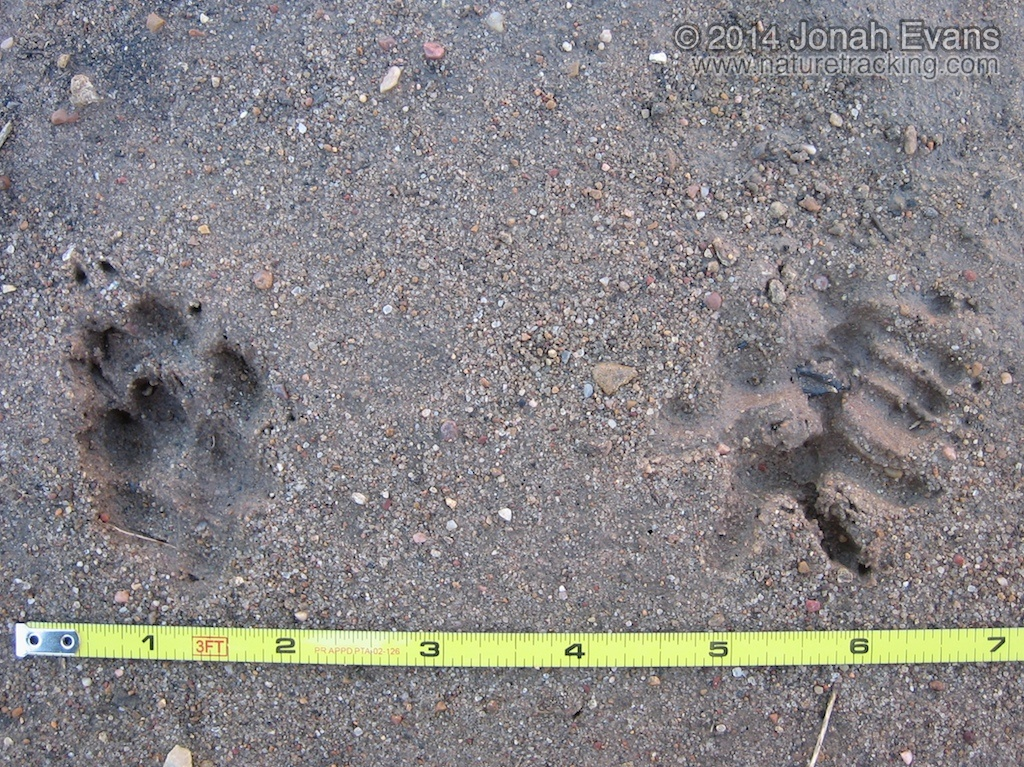fox: (637, 251, 983, 614), (13, 252, 308, 648)
